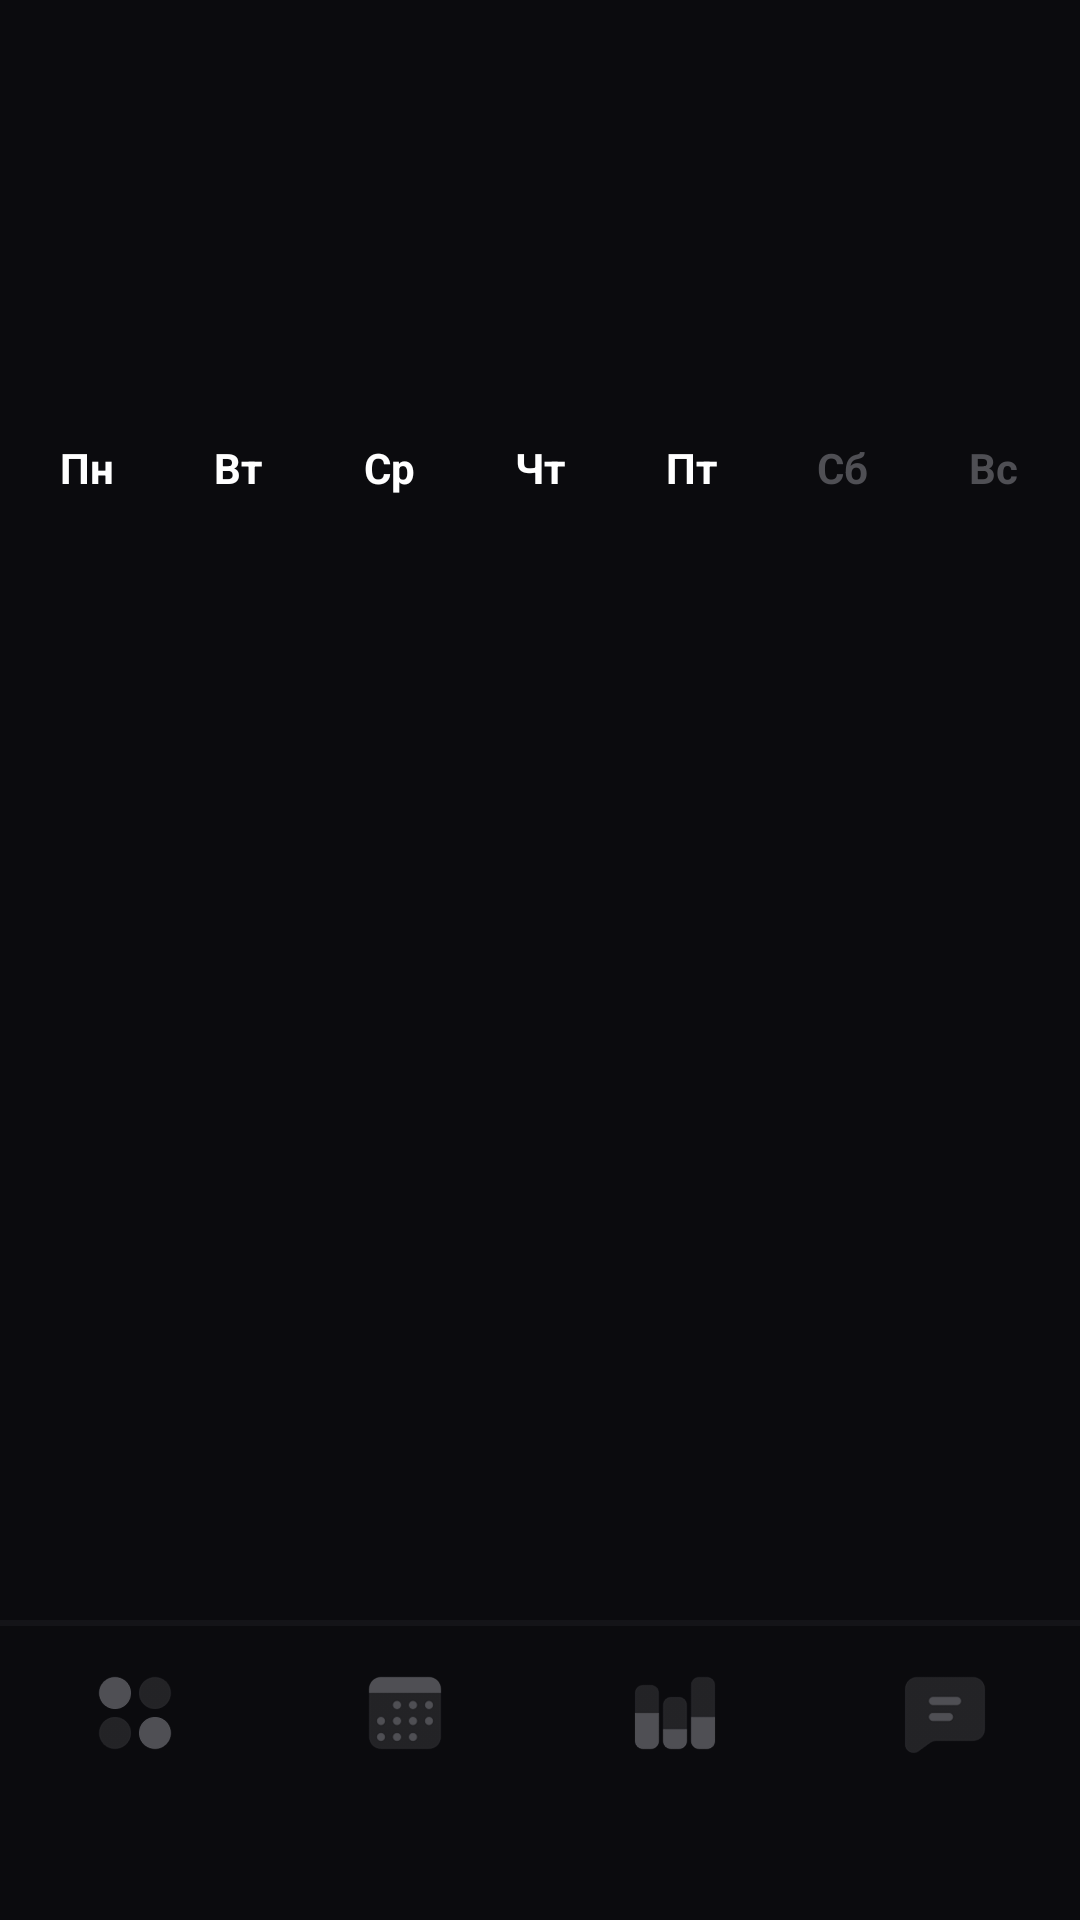

Icons on this 1080 x 1920 Android screen, each with its box as (x1, y1, x2, y2):
calendar: (369, 1677, 441, 1749)
chat: (905, 1677, 985, 1753)
home: (99, 1677, 171, 1749)
statistics: (635, 1677, 715, 1750)
